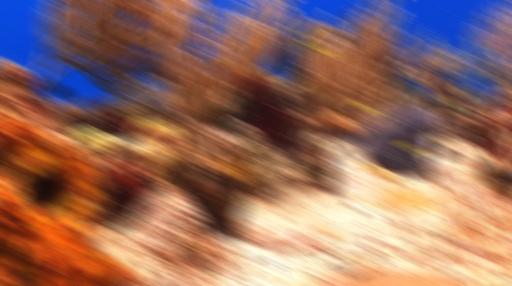Fish: (480, 48, 507, 73), (448, 89, 469, 110), (48, 80, 69, 97), (293, 26, 316, 39), (299, 45, 333, 51), (397, 144, 424, 151), (352, 103, 377, 110), (450, 97, 460, 110), (458, 88, 468, 97)
